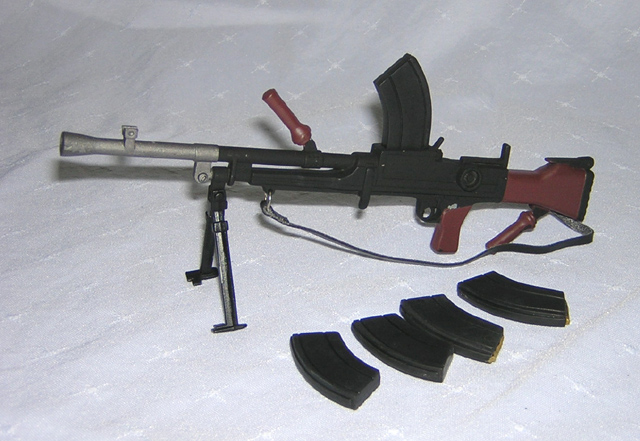rifle: (45, 44, 614, 316)
